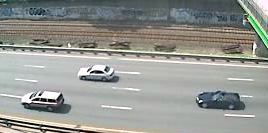car: (19, 88, 66, 114), (194, 89, 245, 111), (75, 63, 117, 84)
